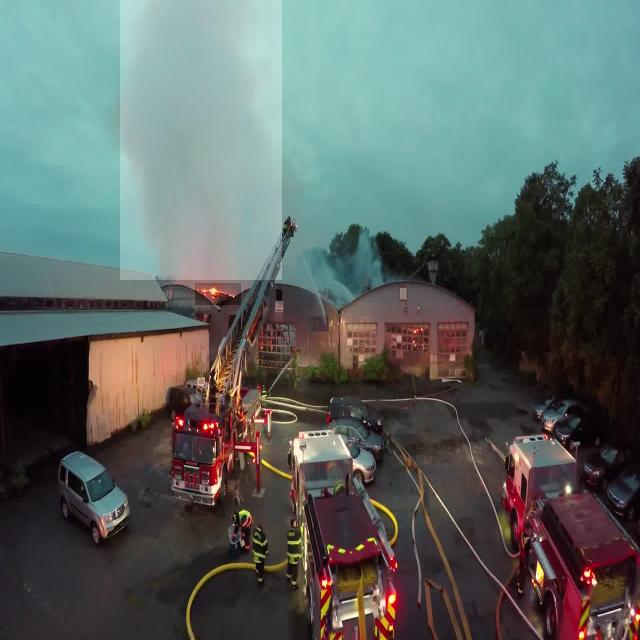Fire: (195, 283, 241, 305)
Smoke: (120, 0, 282, 280)
